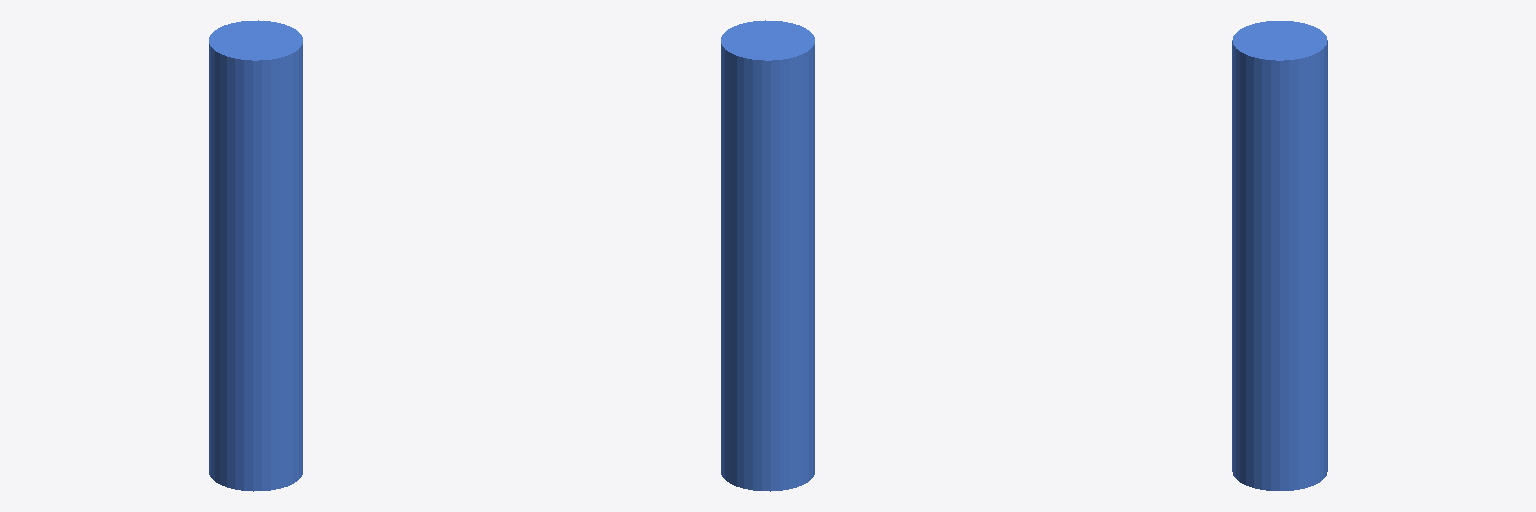
The robot description file, URDF, robot "leg_cylinder":
<?xml version="0.0" ?>
<robot name="leg_cylinder">
  <link name="base_link">
    <inertial>
      <origin rpy="0 0 0" xyz="0 0 0"/>
       <mass value="1e-5"/>
       <inertia ixx="1e-10" ixy="0" ixz="0" iyy="1e-10" iyz="0" izz="1e-10"/>
    </inertial>

    <visual>
      <origin rpy="0 0 0" xyz="0 0 0"/>
      <geometry>
        <cylinder radius="0.05" length="0.5"/>
      </geometry>
      <material name="cornflowerblue">
        <color rgba="0.3921 0.5843 0.9294 0.5"/>
      </material>
    </visual>

  </link>
</robot>

--- What the picture shows (computed from the rendered views, not written in the file) ---
3 views of the same robot in one strip: view 1: azimuth 30°, elevation 25°; view 2: azimuth 150°, elevation 25°; view 3: azimuth 270°, elevation 25° (orthographic).
Model leg_cylinder with 1 links and 0 joints (none), rooted at base_link, posed all joints at 0.
Links seen in each view (by area): view 1: base_link; view 2: base_link; view 3: base_link.
Link boxes in pixels (x1,y1,x2,y2): base_link: (209,20,302,491); base_link: (721,20,814,491); base_link: (1232,21,1327,490).
Size in the robot's own frame: 0.1 by 0.1 by 0.5 metres.
Geometry: primitives only (box / cylinder / sphere), no mesh files.